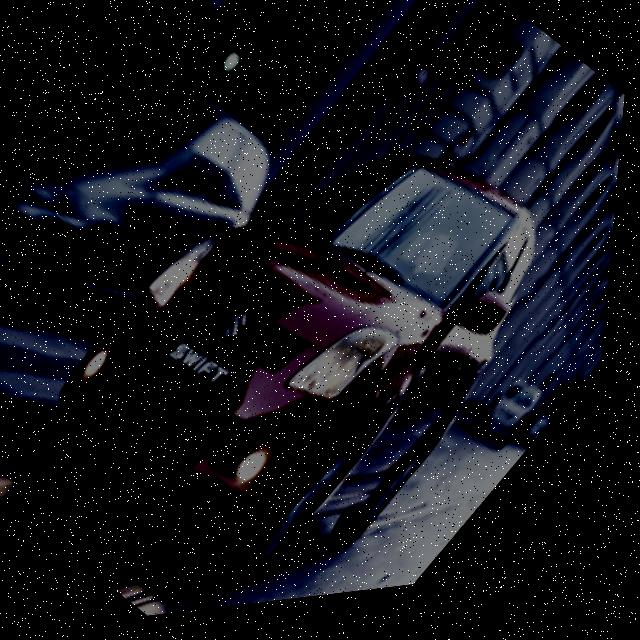license_plate: (160, 326, 250, 413)
